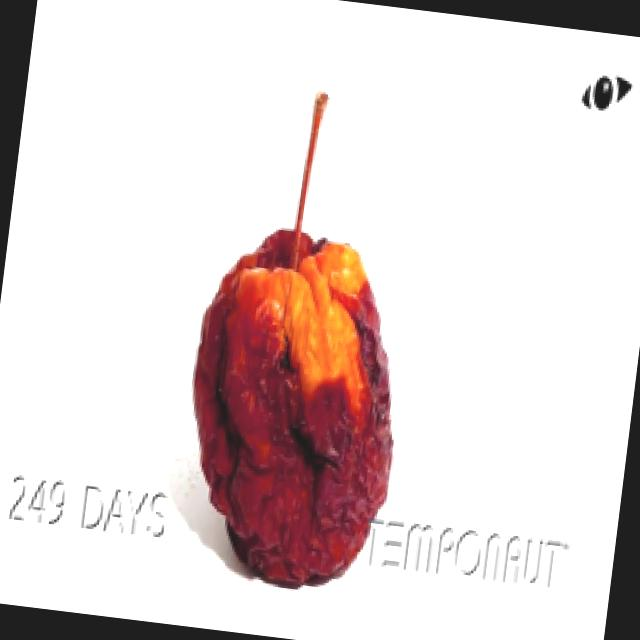Rotten_Apple: (156, 28, 476, 603)
